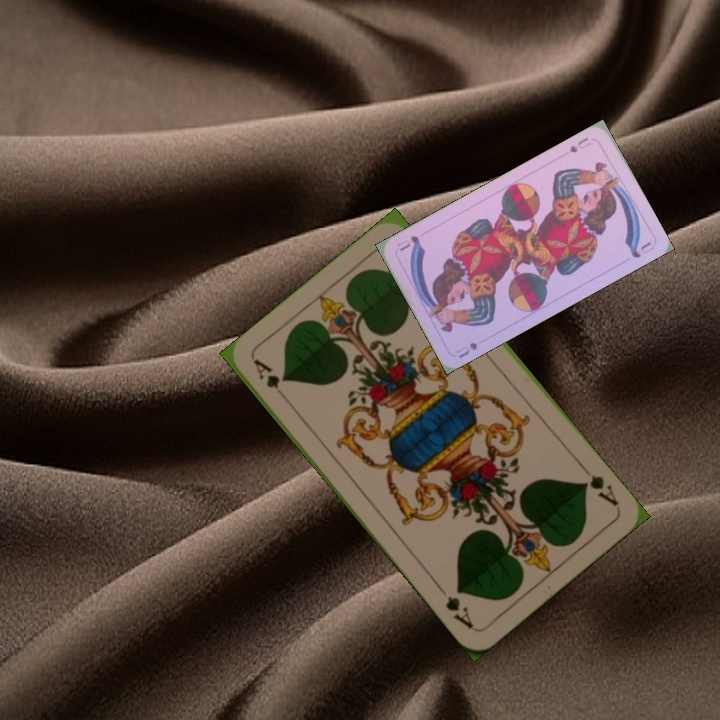GA: (249, 355, 293, 405), (577, 462, 622, 510)
SU: (565, 133, 594, 156), (452, 338, 480, 361)
